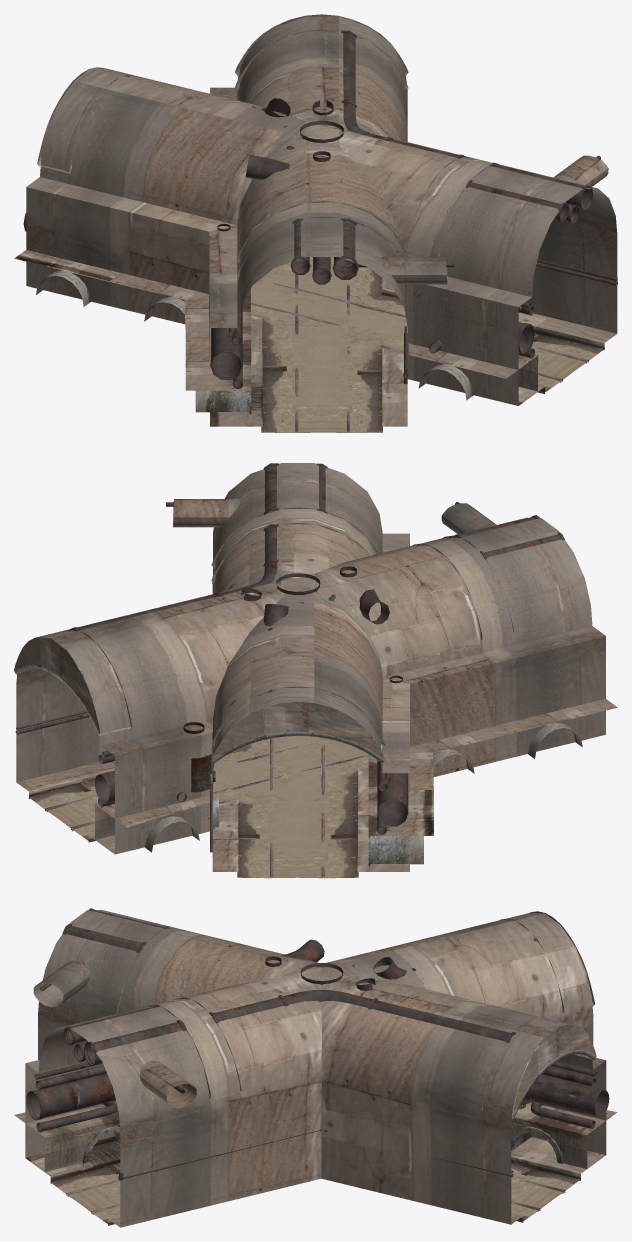
Rendered from FBX_intersection.fbx.
The picture shows the model from 3 angles, top to bottom: view 1: azimuth 30°, elevation 25°; view 2: azimuth 150°, elevation 25°; view 3: azimuth 270°, elevation 25°; orthographic projection. The views are drawn at different scales.
Parts seen in each view (by area): view 1: intersection_walls, intersection_dirt, intersection, pipe_13, pipe_3, intersection_tracks, pipe_32, pipe_28, pipe_26, pipe_37, pipe_34; view 2: intersection_walls, intersection_dirt, intersection, pipe_13, pipe_3, intersection_tracks, intersection_cylinder2, pipe_26, pipe_37; view 3: intersection_walls, intersection, intersection_dirt, pipe_13, pipe_20, pipe_9, pipe_26, pipe_21, pipe_32, pipe_19, pipe_10, pipe_37 (+4 smaller).
Boxes of the visible parts, left/top/right/bottom form: intersection_walls: left=26, top=14, right=617, bottom=405; intersection_dirt: left=251, top=257, right=604, bottom=432; intersection: left=14, top=69, right=616, bottom=426; pipe_13: left=341, top=30, right=466, bottom=158; pipe_3: left=23, top=212, right=242, bottom=379; intersection_tracks: left=251, top=274, right=588, bottom=431; pipe_32: left=332, top=218, right=358, bottom=279; pipe_28: left=465, top=180, right=569, bottom=222; pipe_26: left=489, top=162, right=593, bottom=210; pipe_37: left=245, top=155, right=289, bottom=179; pipe_34: left=290, top=218, right=310, bottom=274; intersection_walls: left=14, top=463, right=605, bottom=857; intersection_dirt: left=29, top=736, right=368, bottom=878; intersection: left=14, top=563, right=617, bottom=871; pipe_13: left=69, top=524, right=278, bottom=631; pipe_3: left=377, top=760, right=408, bottom=826; intersection_tracks: left=45, top=738, right=364, bottom=876; intersection_cylinder2: left=183, top=722, right=213, bottom=792; pipe_26: left=263, top=463, right=278, bottom=514; pipe_37: left=359, top=589, right=389, bottom=624; intersection_walls: left=25, top=910, right=606, bottom=1227; intersection: left=14, top=998, right=617, bottom=1227; intersection_dirt: left=50, top=1162, right=580, bottom=1224; pipe_13: left=209, top=990, right=515, bottom=1043; pipe_20: left=26, top=1073, right=115, bottom=1120; pipe_9: left=523, top=1074, right=609, bottom=1117; pipe_26: left=84, top=1019, right=186, bottom=1066; pipe_21: left=36, top=1101, right=117, bottom=1132; pipe_32: left=62, top=923, right=146, bottom=952; pipe_19: left=35, top=1065, right=106, bottom=1089; pipe_10: left=531, top=1102, right=595, bottom=1129; pipe_37: left=281, top=939, right=324, bottom=962.
Size of the model in its own units: 22.05 by 27.63 by 9.17.
